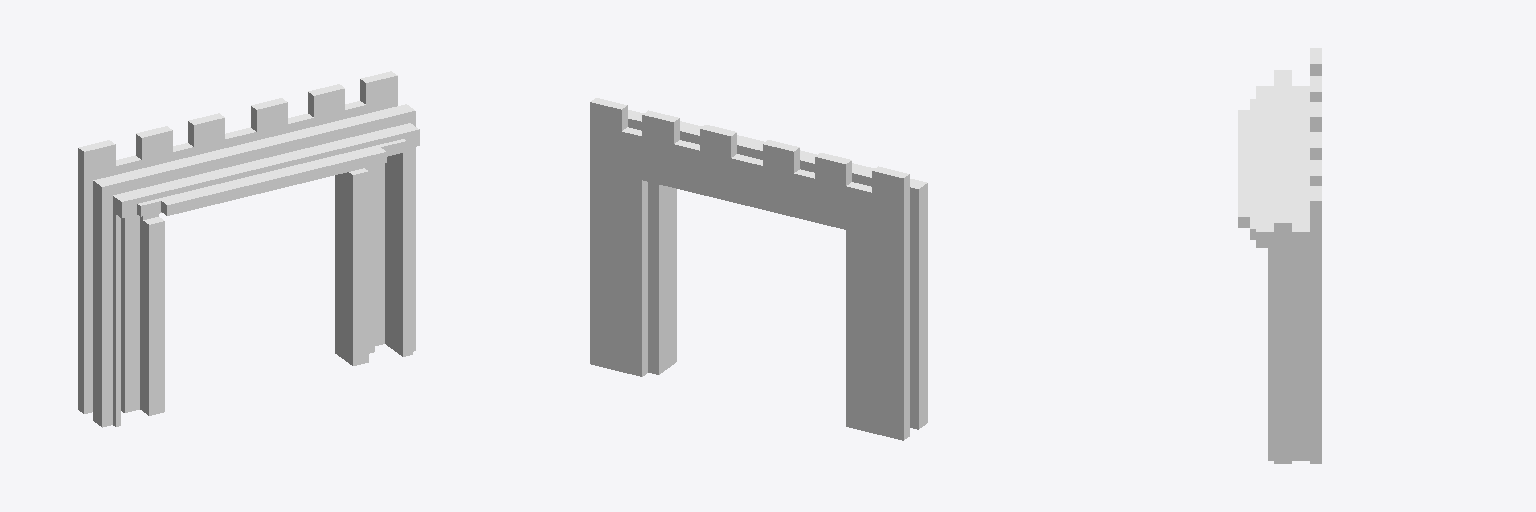
Rendered from Gate-0.obj.
The picture shows the model from 3 angles: view 1: azimuth 30°, elevation 25°; view 2: azimuth 150°, elevation 25°; view 3: azimuth 270°, elevation 25°; orthographic projection.
Visible parts, largest first — view 1: Gate-0; view 2: Gate-0; view 3: Gate-0.
Boxes of the visible parts, box(x1,y1,x2,y2) form: Gate-0: box(78, 71, 419, 427); Gate-0: box(590, 98, 927, 440); Gate-0: box(1238, 48, 1321, 463).
Size of the model in its own units: 60 by 48 by 14.